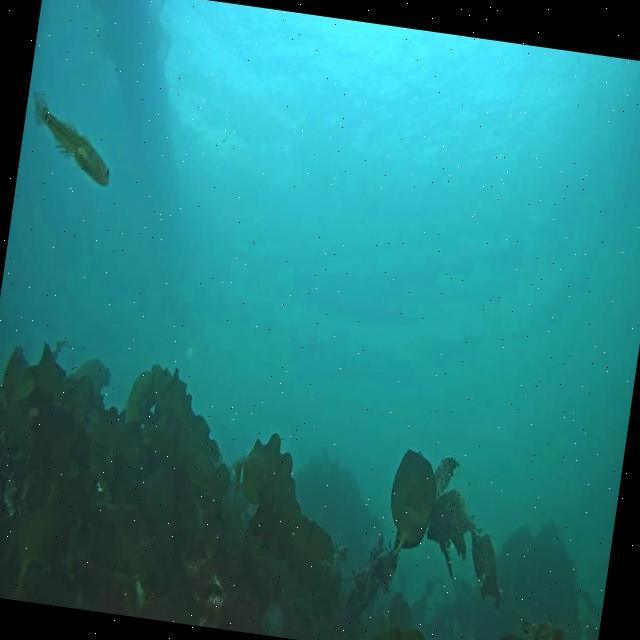fish: (27, 95, 122, 184)
